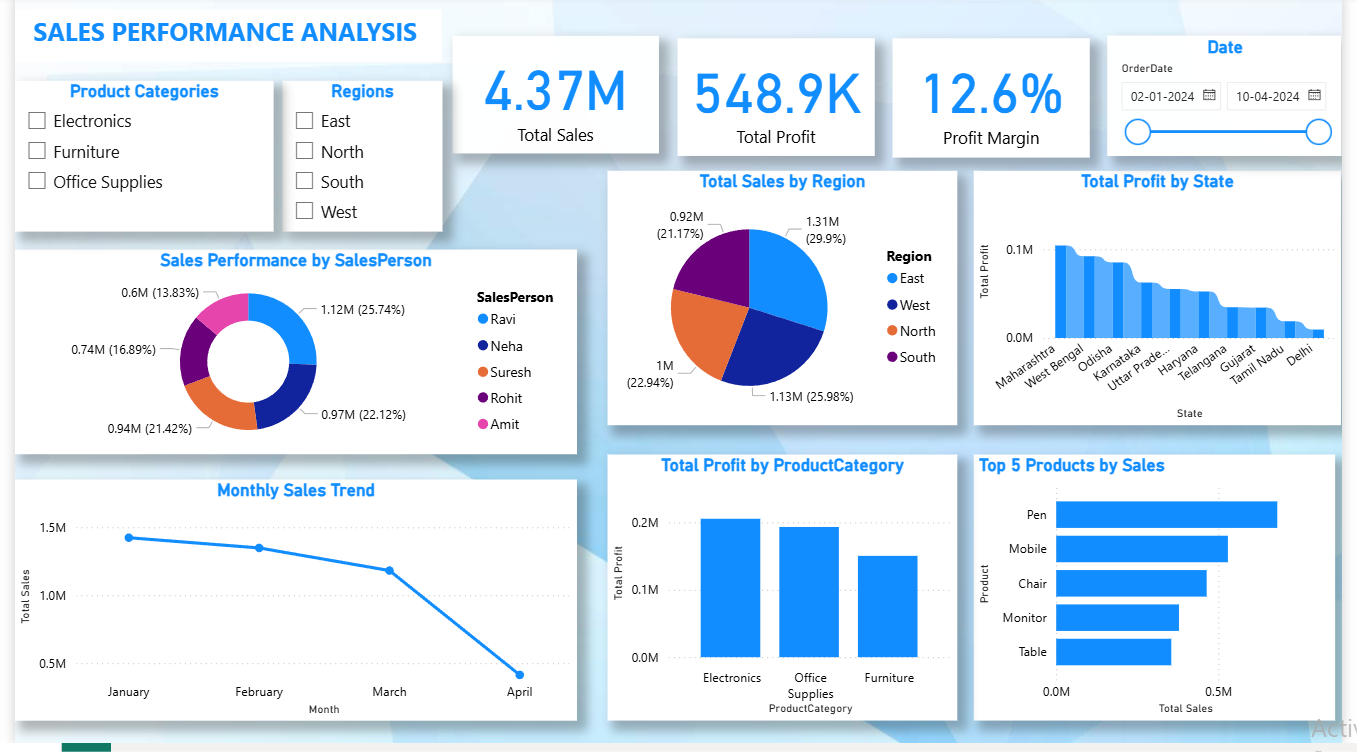

The page's visual inventory and layout, read from the dashboard file:
{"tool":"powerbi","page":{"name":"Page 1","canvas":[1280,720],"ordinal":0},"visuals":[{"type":"card","fields":{"Values":["SalesData.Total Sales"]},"box":[422.1,37.9,199.1,113.6],"z":0},{"type":"card","fields":{"Values":["SalesData.Total Profit"]},"box":[639.4,39.3,190.7,113.6],"z":1000},{"type":"card","fields":{"Values":["SalesData.Profit Margin"]},"box":[847,39.3,190.7,115],"z":2000},{"type":"pieChart","fields":{"Category":["SalesData.Region"],"Y":["SalesData.Total Sales"]},"box":[572.1,168.3,337.9,245.4],"z":3000},{"type":"ribbonChart","fields":{"Category":["SalesData.State"],"Y":["SalesData.Total Profit"]},"box":[925.5,168.3,354.8,245.4],"z":4000},{"type":"lineChart","title":"Monthly Sales Trend","fields":{"Category":["SalesData.OrderDate.Variation.Date Hierarchy.Month"],"Y":["SalesData.Total Sales"]},"box":[0,465.6,542.7,232.8],"z":5000},{"type":"clusteredBarChart","title":"Top 5 Products by Sales","fields":{"Category":["SalesData.Product"],"Y":["SalesData.Total Sales"]},"box":[925.5,441.7,349.2,256.6],"z":6000},{"type":"donutChart","title":"Sales Performance by SalesPerson","fields":{"Category":["SalesData.SalesPerson"],"Y":["SalesData.Total Sales"]},"box":[0,244,542.7,197.7],"z":7000},{"type":"clusteredColumnChart","fields":{"Category":["SalesData.ProductCategory"],"Y":["SalesData.Total Profit"]},"box":[572.1,441.7,337.9,256.6],"z":8000},{"type":"slicer","title":"Regions","fields":{"Values":["SalesData.Region"]},"box":[258,81.3,154.3,145.8],"z":9000},{"type":"slicer","title":"Product Categories","fields":{"Values":["SalesData.ProductCategory"]},"box":[0,81.3,249.6,145.8],"z":10000},{"type":"slicer","title":"Date","fields":{"Values":["SalesData.OrderDate"]},"box":[1054.5,37.9,225.8,116.4],"z":11000},{"type":"textbox","box":[0,12.6,412.3,50.5],"z":12000}]}

Visuals, with their boxes in screenshot pixels (x1, y1, x2, y2), scaled from the page's 1280x720 canvas onto the 1357x752 screenshot:
card - SalesData.Total Sales: 447,40,659,158
card - SalesData.Total Profit: 678,41,880,160
card - SalesData.Profit Margin: 898,41,1100,161
pieChart - SalesData.Region x SalesData.Total Sales: 607,176,965,432
ribbonChart - SalesData.State x SalesData.Total Profit: 981,176,1356,432
"Monthly Sales Trend" lineChart: 0,486,575,729
"Top 5 Products by Sales" clusteredBarChart: 981,461,1351,729
"Sales Performance by SalesPerson" donutChart: 0,255,575,461
clusteredColumnChart - SalesData.ProductCategory x SalesData.Total Profit: 607,461,965,729
"Regions" slicer: 274,85,437,237
"Product Categories" slicer: 0,85,265,237
"Date" slicer: 1118,40,1356,161
textbox: 0,13,437,66
